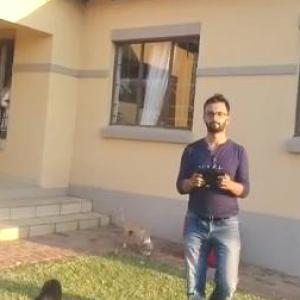follow: (163, 88, 255, 299)
null: (110, 199, 157, 259), (24, 275, 64, 299)
